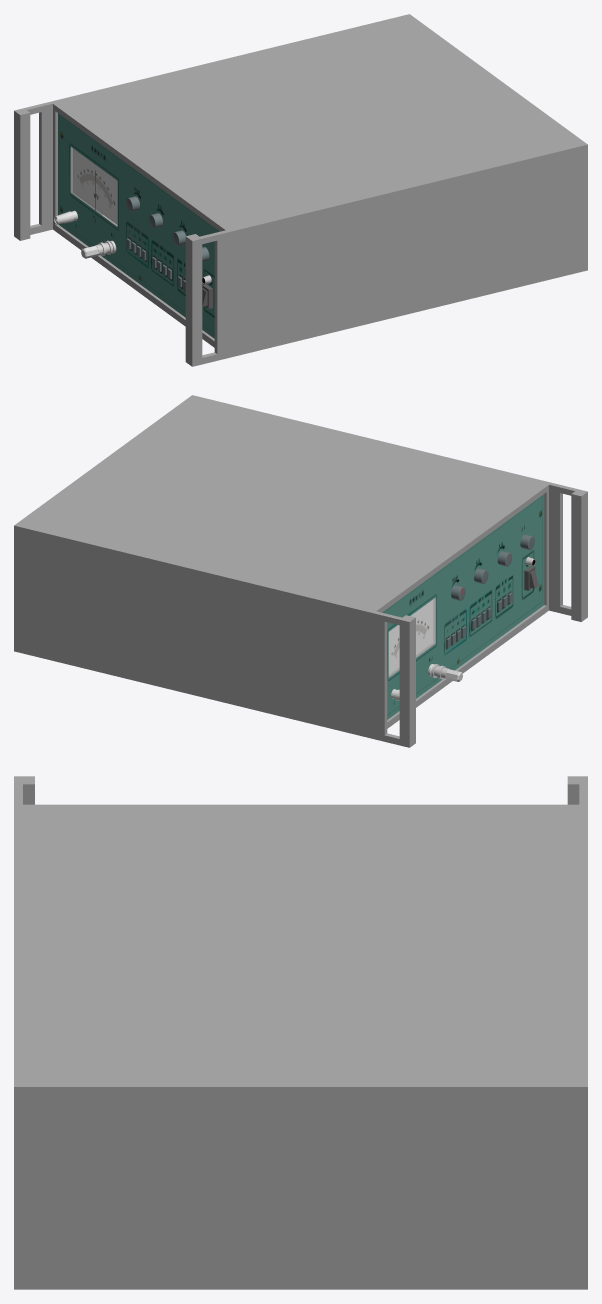
The model's file is zheng_ti_pin_xuan.FBX.
The picture shows the model from 3 angles, top to bottom: view 1: azimuth 30°, elevation 25°; view 2: azimuth 150°, elevation 25°; view 3: azimuth 270°, elevation 25°; orthographic projection. The views are drawn at different scales.
Parts seen in each view (by area): view 1: pPlane1, 对象020, 对象019; view 2: pPlane1, 对象020, 对象019; view 3: pPlane1.
Boxes of the visible parts, x1,y1,x2,y2 form: pPlane1: [14, 14, 587, 366]; 对象020: [58, 113, 219, 338]; 对象019: [73, 148, 117, 224]; pPlane1: [14, 395, 587, 747]; 对象020: [382, 494, 544, 719]; 对象019: [388, 599, 433, 675]; pPlane1: [14, 776, 587, 1289].
Bounding box in the file's own units: 46.08 × 14 × 35.97.
